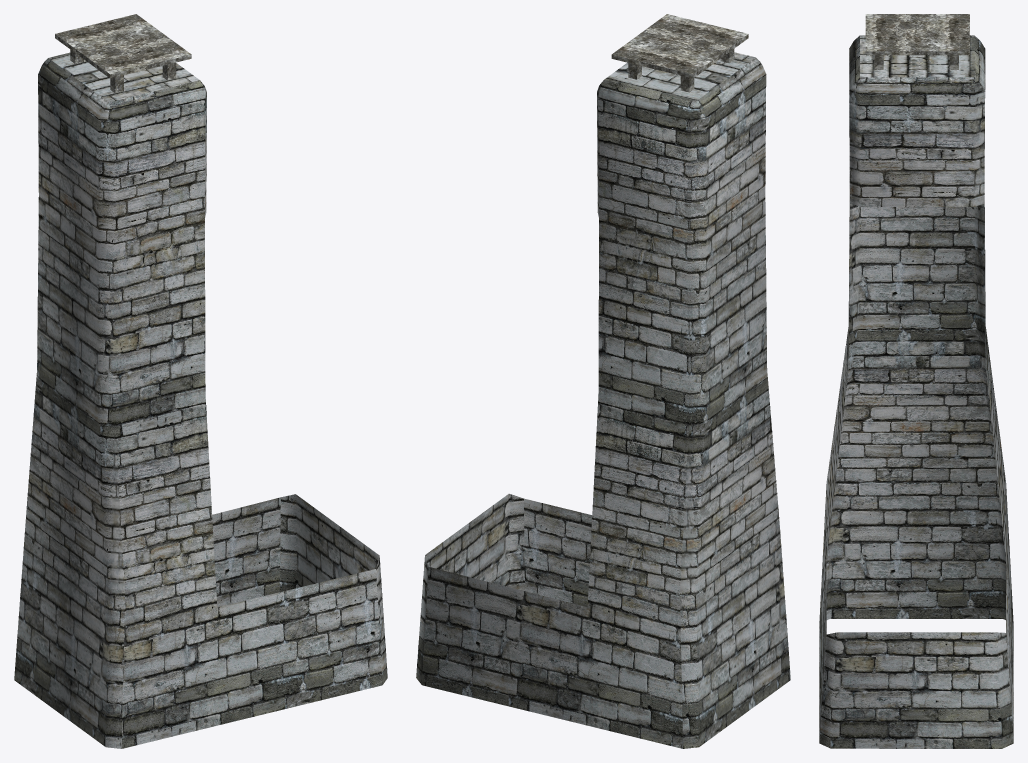
The model's file is cabinExteriorFireplace_01_LOD2.FBX.
The picture shows the model from 3 angles, left to right: view 1: azimuth 30°, elevation 25°; view 2: azimuth 150°, elevation 25°; view 3: azimuth 270°, elevation 25°; orthographic projection. The views are drawn at different scales.
Visible parts, largest first — view 1: cabinExteriorFireplace_01_LOD2; view 2: cabinExteriorFireplace_01_LOD2; view 3: cabinExteriorFireplace_01_LOD2.
Part boxes in pixels (x1,y1,x2,y2): cabinExteriorFireplace_01_LOD2: [14, 14, 387, 748]; cabinExteriorFireplace_01_LOD2: [416, 14, 790, 748]; cabinExteriorFireplace_01_LOD2: [819, 14, 1013, 748].
Size of the model in its own units: 21.1 by 46.57 by 13.32.
Materials: 2 (2 with a texture image).
